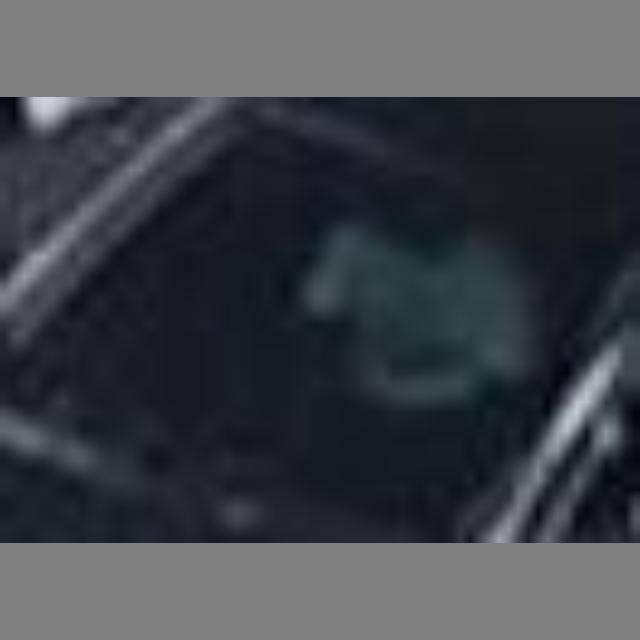tidak-pakai: (262, 184, 524, 446)
